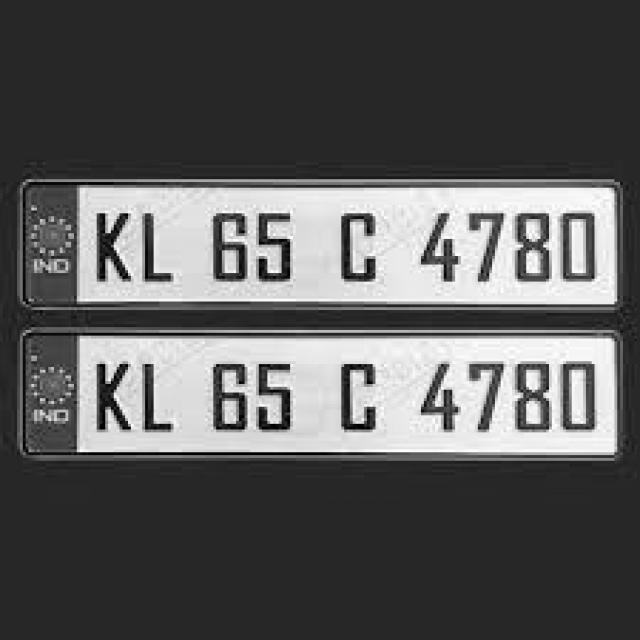license-plate: (23, 182, 620, 310), (23, 338, 617, 466)
